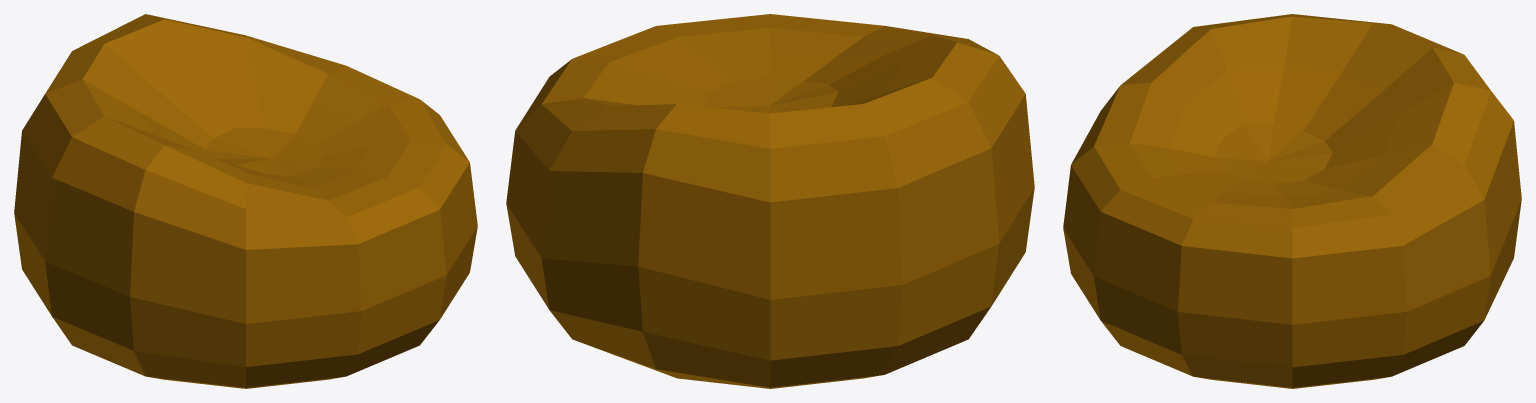
Rendered from SaccoChairV2Orange.fbx.
3 views of the same model, side by side, from view 1: azimuth 30°, elevation 25°; view 2: azimuth 150°, elevation 25°; view 3: azimuth 270°, elevation 25° (orthographic). The views are drawn at different scales.
Parts seen in each view (by area): view 1: SaccoChairV2Orange; view 2: SaccoChairV2Orange; view 3: SaccoChairV2Orange.
Part boxes in pixels (x1,y1,x2,y2): SaccoChairV2Orange: (14,14,477,388); SaccoChairV2Orange: (506,14,1034,388); SaccoChairV2Orange: (1063,14,1521,388).
Size of the model in its own units: 120 by 69.41 by 120.
